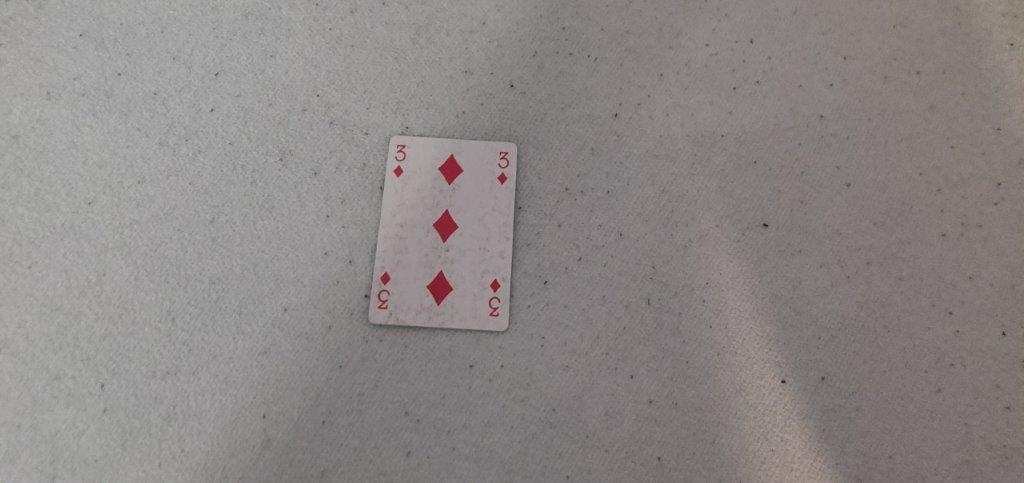3D: (388, 141, 412, 180), (493, 148, 510, 190)
